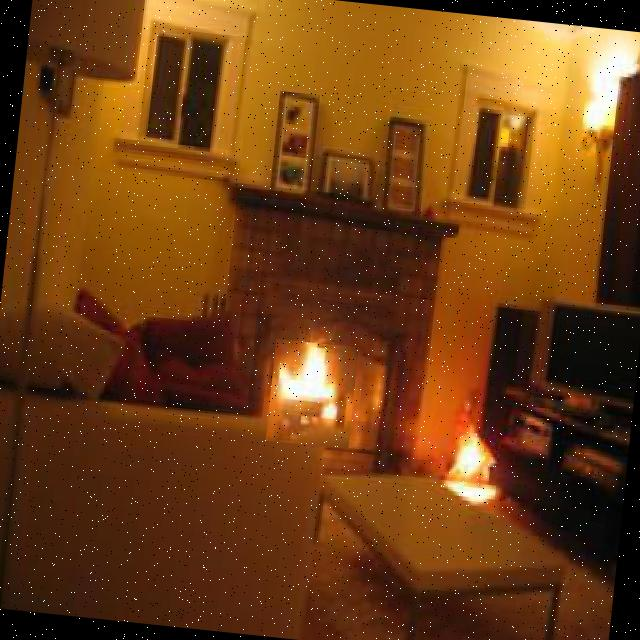fire: (266, 338, 358, 448)
